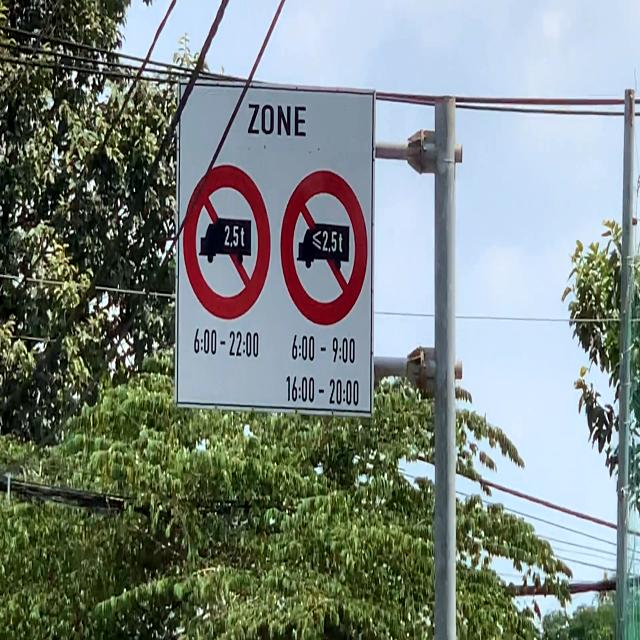P.106b: (280, 169, 368, 327), (183, 164, 272, 320)
